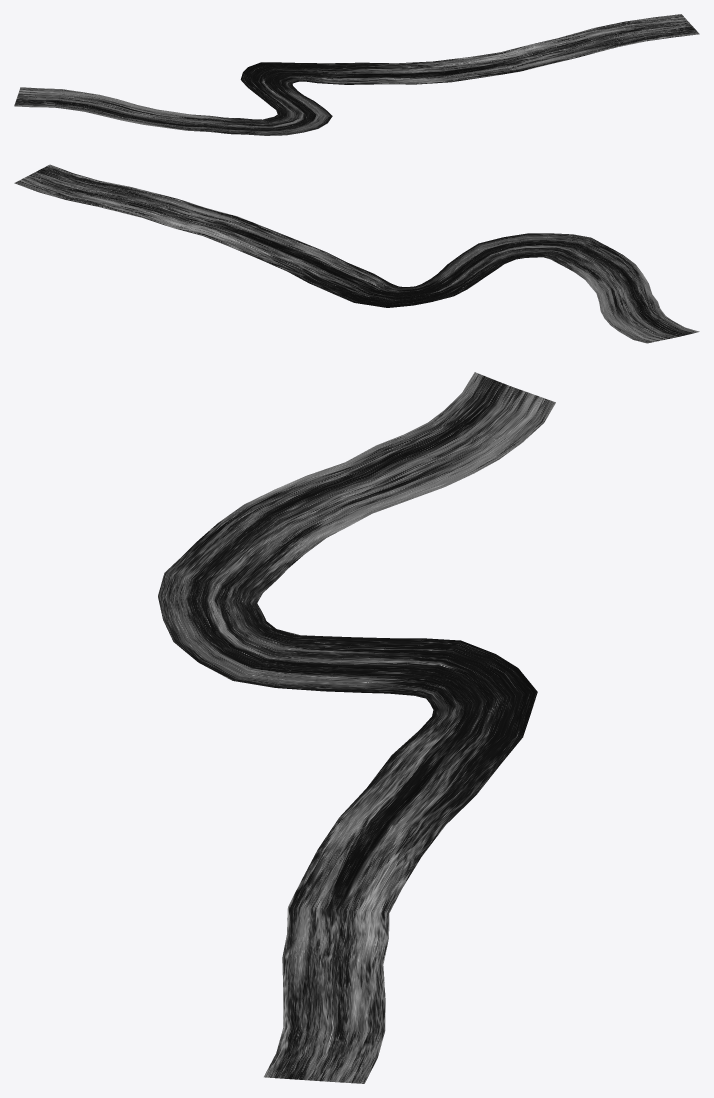
Rendered from RiverMesh.fbx.
3 renders of one model, top to bottom at view 1: azimuth 30°, elevation 25°; view 2: azimuth 150°, elevation 25°; view 3: azimuth 270°, elevation 25°, orthographic. The views are drawn at different scales.
Parts seen in each view (by area): view 1: pPlane1; view 2: pPlane1; view 3: pPlane1.
Boxes of the visible parts, x1,y1,x2,y2 form: pPlane1: [14, 14, 699, 135]; pPlane1: [14, 164, 699, 343]; pPlane1: [158, 372, 555, 1083].
Size of the model in its own units: 1.2 by 0.0795 by 0.3234.
